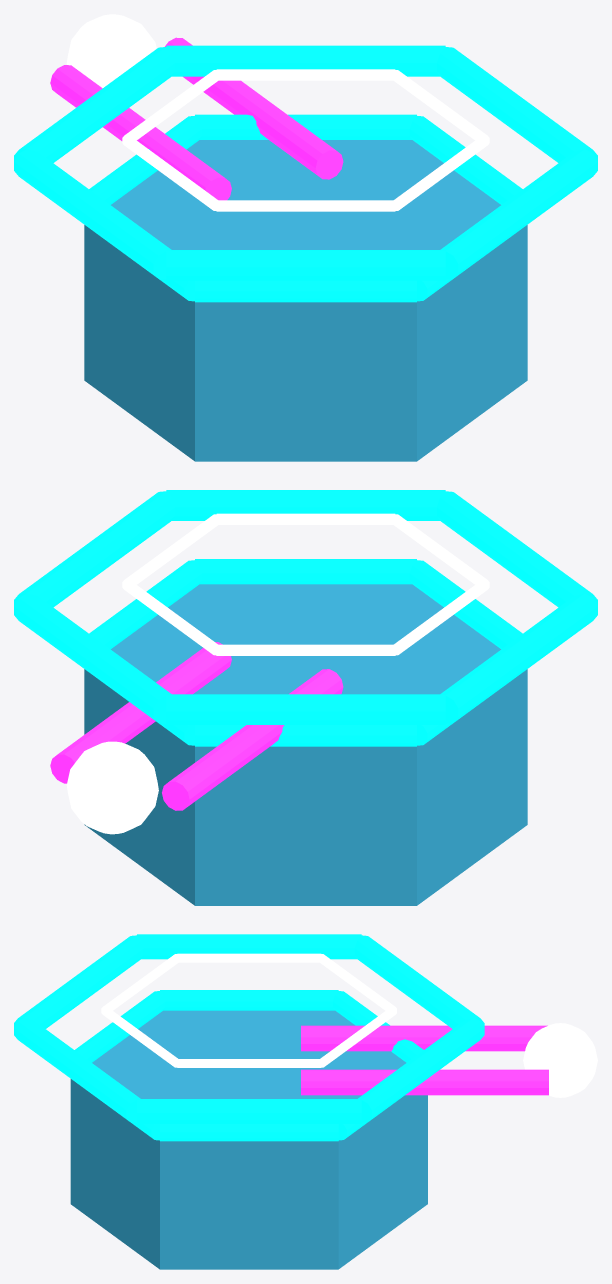
The model's file is shooter.glb.
3 views of the same model, one above another, from view 1: azimuth 30°, elevation 25°; view 2: azimuth 150°, elevation 25°; view 3: azimuth 270°, elevation 25° (orthographic). The views are drawn at different scales.
Visible parts, largest first — view 1: ShooterHexDarkBody, ShooterReadabilityHexRoute3, ShooterReadabilityHexRoute0, ShooterReadabilityHexRoute2, ShooterReadabilityHexRoute4, ShooterReadabilityHexRoute1, ShooterReadabilityHexRoute5, ShooterHexEdge3, ShooterRightCannonRail, ShooterHexEdge0, ShooterLeftCannonRail, ShooterMuzzleCore (+8 smaller); view 2: ShooterHexDarkBody, ShooterReadabilityHexRoute1, ShooterReadabilityHexRoute4, ShooterMuzzleCore, ShooterReadabilityHexRoute0, ShooterReadabilityHexRoute2, ShooterHexEdge4, ShooterReadabilityHexRoute3, ShooterReadabilityHexRoute5, ShooterLeftCannonRail, ShooterRightCannonRail, ShooterHexEdge1 (+8 smaller); view 3: ShooterHexDarkBody, ShooterReadabilityHexRoute5, ShooterRightCannonRail, ShooterReadabilityHexRoute2, ShooterLeftCannonRail, ShooterMuzzleCore, ShooterReadabilityHexRoute0, ShooterReadabilityHexRoute4, ShooterHexEdge2, ShooterReadabilityHexRoute1, ShooterReadabilityHexRoute3, ShooterHexEdge5 (+8 smaller).
Boxes of the visible parts, <box> form: ShooterHexDarkBody: <box>84,140,527,461</box>; ShooterReadabilityHexRoute3: <box>166,250,445,280</box>; ShooterReadabilityHexRoute0: <box>166,45,445,76</box>; ShooterReadabilityHexRoute2: <box>14,149,171,279</box>; ShooterReadabilityHexRoute4: <box>440,149,597,279</box>; ShooterReadabilityHexRoute1: <box>14,47,174,162</box>; ShooterReadabilityHexRoute5: <box>437,47,597,162</box>; ShooterHexEdge3: <box>195,280,416,302</box>; ShooterRightCannonRail: <box>165,37,343,179</box>; ShooterHexEdge0: <box>195,114,416,139</box>; ShooterLeftCannonRail: <box>50,65,231,200</box>; ShooterMuzzleCore: <box>66,14,156,88</box>; ShooterHexDarkBody: <box>84,584,527,905</box>; ShooterReadabilityHexRoute1: <box>166,694,445,724</box>; ShooterReadabilityHexRoute4: <box>166,490,445,520</box>; ShooterMuzzleCore: <box>66,741,158,834</box>; ShooterReadabilityHexRoute0: <box>14,593,171,723</box>; ShooterReadabilityHexRoute2: <box>440,593,597,723</box>; ShooterHexEdge4: <box>195,559,416,584</box>; ShooterReadabilityHexRoute3: <box>437,491,597,607</box>; ShooterReadabilityHexRoute5: <box>14,491,174,607</box>; ShooterLeftCannonRail: <box>162,669,343,810</box>; ShooterRightCannonRail: <box>50,642,231,783</box>; ShooterHexEdge1: <box>195,725,416,746</box>; ShooterHexDarkBody: <box>70,1010,427,1269</box>; ShooterReadabilityHexRoute5: <box>137,1099,361,1123</box>; ShooterRightCannonRail: <box>301,1069,548,1095</box>; ShooterReadabilityHexRoute2: <box>137,934,361,959</box>; ShooterLeftCannonRail: <box>301,1025,547,1051</box>; ShooterMuzzleCore: <box>523,1023,597,1097</box>; ShooterReadabilityHexRoute0: <box>358,1017,484,1122</box>; ShooterReadabilityHexRoute4: <box>14,1017,140,1122</box>; ShooterHexEdge2: <box>160,990,338,1010</box>; ShooterReadabilityHexRoute1: <box>354,935,484,1028</box>; ShooterReadabilityHexRoute3: <box>14,935,143,1028</box>; ShooterHexEdge5: <box>160,1124,338,1141</box>.
Bounding box in the file's own units: 1.65 × 0.8694 × 2.33.
